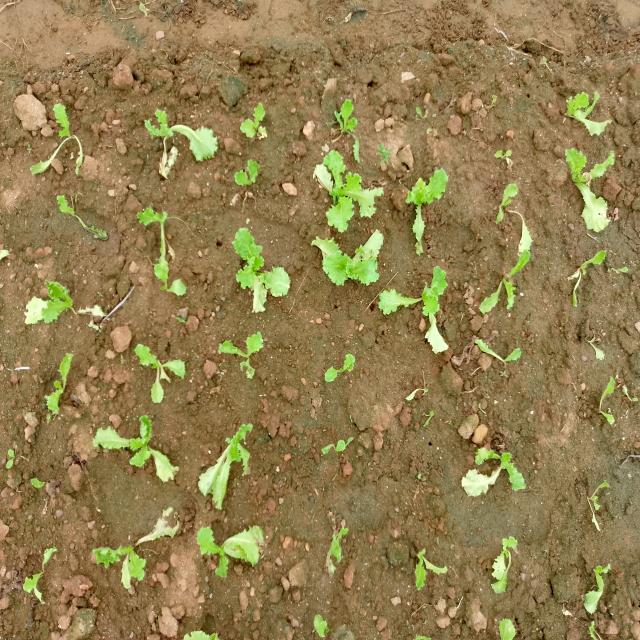Lettuce: (379, 256, 460, 354), (87, 411, 184, 486), (229, 222, 301, 315), (126, 204, 197, 296), (549, 148, 623, 236), (133, 105, 221, 178), (311, 150, 385, 236), (310, 228, 394, 299), (476, 244, 539, 330), (194, 520, 272, 584), (199, 432, 268, 503), (401, 163, 453, 255), (477, 182, 538, 258), (552, 84, 624, 144), (90, 536, 159, 596), (454, 442, 530, 494), (314, 86, 372, 154), (304, 511, 354, 588), (564, 229, 608, 314), (570, 552, 621, 625), (133, 341, 191, 404), (478, 522, 524, 600), (215, 329, 274, 384), (22, 276, 79, 326), (406, 535, 450, 598), (230, 101, 282, 149), (595, 362, 624, 443), (316, 350, 366, 396), (471, 335, 527, 376), (238, 149, 278, 200), (300, 603, 338, 640)
